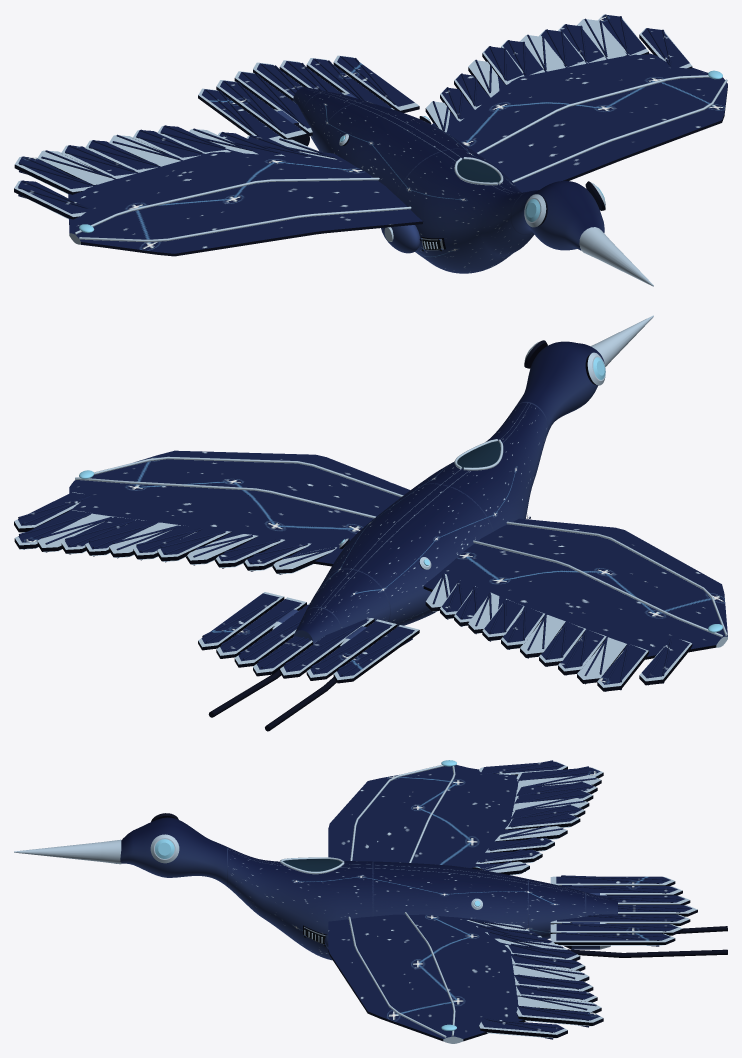
3 views of the same model, one above another, from view 1: azimuth 30°, elevation 25°; view 2: azimuth 150°, elevation 25°; view 3: azimuth 270°, elevation 25° (orthographic). The views are drawn at different scales.
Parts seen in each view (by area): view 1: egret_hull; view 2: egret_hull; view 3: egret_hull.
Part boxes in pixels (bbox=[...]): egret_hull: bbox=[14, 14, 727, 286]; egret_hull: bbox=[14, 315, 727, 731]; egret_hull: bbox=[14, 760, 727, 1043].
Bounding box in the file's own units: 57.92 × 13.46 × 64.
1 material, 1 textured.
